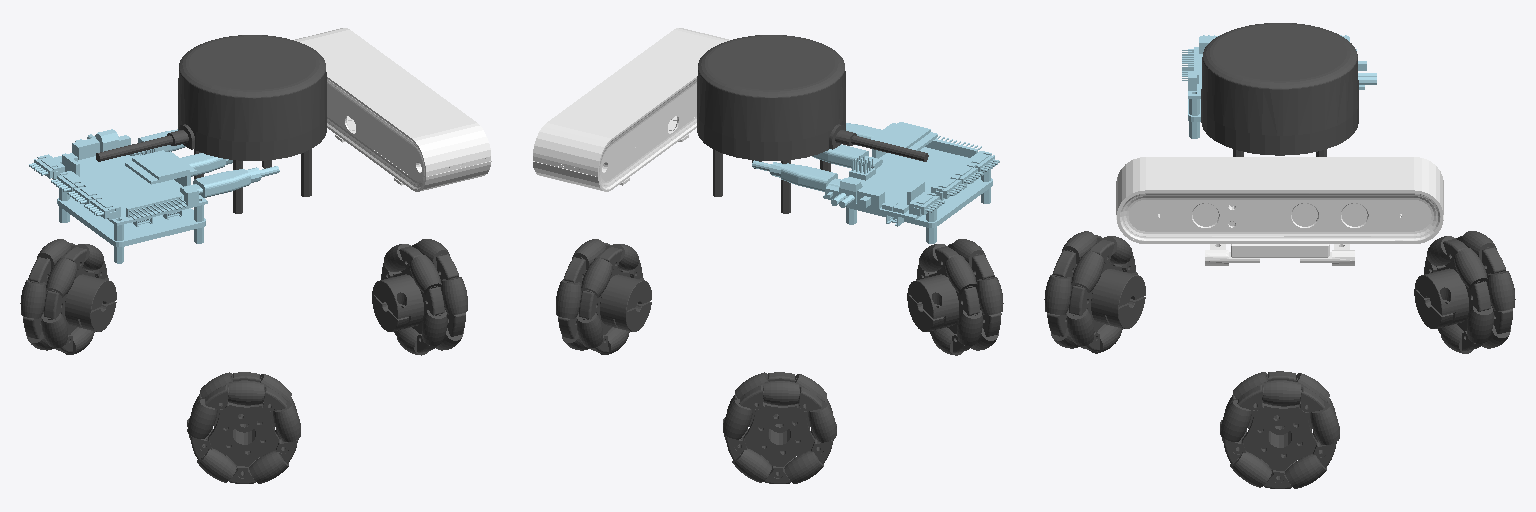
URDF robot description (mini_omni_robot):
<?xml version="1.0" encoding="utf-8"?>
<!-- This URDF was automatically created by SolidWorks to URDF Exporter! Originally created by [author] ([email redacted]) 
     Commit Version: 1.6.0-4-g7f85cfe  Build Version: 1.6.7995.38578
     For more information, please see http://wiki.ros.org/sw_urdf_exporter -->
<robot
  name="mini_omni_robot">
  <link
    name="base_link">
    <inertial>
      <origin
        xyz="-0.00215152015512567 -0.00354771497616371 -0.00238850986636495"
        rpy="0 0 0" />
      <mass
        value="0.316971084822964" />
      <inertia
        ixx="0.000420307413554536"
        ixy="8.53304678996615E-07"
        ixz="3.25484281157172E-11"
        iyy="0.000423240319736897"
        iyz="-2.92206846665081E-11"
        izz="0.000803923344739989" />
    </inertial>
    <visual>
      <origin
        xyz="0 0 0"
        rpy="0 0 0" />
      <geometry>
        <mesh
          filename="package://wheeltec_robot_urdf/meshes/mini_omni_robot_meshes/base_link.STL" />
      </geometry>
      <material
        name="">
        <color
          rgba="0.741176470588235 0.901960784313726 0.956862745098039 1" />
      </material>
    </visual>
    <collision>
      <origin
        xyz="0 0 0"
        rpy="0 0 0" />
      <geometry>
        <mesh
          filename="package://wheeltec_robot_urdf/meshes/mini_omni_robot_meshes/base_link.STL" />
      </geometry>
    </collision>
  </link>
  <link
    name="front_wheel_link">
    <inertial>
      <origin
        xyz="5.74714974423331E-05 0.00320699063859495 -4.61768854820438E-05"
        rpy="0 0 0" />
      <mass
        value="0.0418742906509581" />
      <inertia
        ixx="1.11530020202845E-05"
        ixy="2.36675244306518E-08"
        ixz="-5.43279459256917E-08"
        iyy="1.8768089937325E-05"
        iyz="-4.01883681793204E-08"
        izz="1.11464768270902E-05" />
    </inertial>
    <visual>
      <origin
        xyz="0 0 0"
        rpy="0 0 0" />
      <geometry>
        <mesh
          filename="package://wheeltec_robot_urdf/meshes/mini_omni_robot_meshes/front_wheel_link.STL" />
      </geometry>
      <material
        name="">
        <color
          rgba="0.376470588235294 0.376470588235294 0.376470588235294 1" />
      </material>
    </visual>
    <collision>
      <origin
        xyz="0 0 0"
        rpy="0 0 0" />
      <geometry>
        <mesh
          filename="package://wheeltec_robot_urdf/meshes/mini_omni_robot_meshes/front_wheel_link.STL" />
      </geometry>
    </collision>
  </link>
  <joint
    name="front_wheel_joint"
    type="continuous">
    <origin
      xyz="0.10975 8.5571E-05 -0.0358"
      rpy="0 0 1.5708" />
    <parent
      link="base_link" />
    <child
      link="front_wheel_link" />
    <axis
      xyz="0 -1 0" />
  </joint>
  <link
    name="left_wheel_link">
    <inertial>
      <origin
        xyz="5.74678573044898E-05 0.00320699471167032 -4.61750060654284E-05"
        rpy="0 0 0" />
      <mass
        value="0.041874288756166" />
      <inertia
        ixx="1.11530017211417E-05"
        ixy="2.36641581685783E-08"
        ixz="-5.43274481797102E-08"
        iyy="1.87681100612576E-05"
        iyz="-4.01888165769215E-08"
        izz="1.11464785833887E-05" />
    </inertial>
    <visual>
      <origin
        xyz="0 0 0"
        rpy="0 0 0" />
      <geometry>
        <mesh
          filename="package://wheeltec_robot_urdf/meshes/mini_omni_robot_meshes/left_wheel_link.STL" />
      </geometry>
      <material
        name="">
        <color
          rgba="0.376470588235294 0.376470588235294 0.376470588235294 1" />
      </material>
    </visual>
    <collision>
      <origin
        xyz="0 0 0"
        rpy="0 0 0" />
      <geometry>
        <mesh
          filename="package://wheeltec_robot_urdf/meshes/mini_omni_robot_meshes/left_wheel_link.STL" />
      </geometry>
    </collision>
  </link>
  <joint
    name="left_wheel_joint"
    type="continuous">
    <origin
      xyz="-0.054729 0.095045 -0.0358"
      rpy="0 0 -2.618" />
    <parent
      link="base_link" />
    <child
      link="left_wheel_link" />
    <axis
      xyz="0 -1 0" />
  </joint>
  <link
    name="right_wheel_link">
    <inertial>
      <origin
        xyz="5.74721854603097E-05 0.00320699380279695 -4.61761038215297E-05"
        rpy="0 0 0" />
      <mass
        value="0.0418742868228469" />
      <inertia
        ixx="1.11530020877519E-05"
        ixy="2.36755527469659E-08"
        ixz="-5.43278673691997E-08"
        iyy="1.87681107970762E-05"
        iyz="-4.0189135655947E-08"
        izz="1.11464784876816E-05" />
    </inertial>
    <visual>
      <origin
        xyz="0 0 0"
        rpy="0 0 0" />
      <geometry>
        <mesh
          filename="package://wheeltec_robot_urdf/meshes/mini_omni_robot_meshes/right_wheel_link.STL" />
      </geometry>
      <material
        name="">
        <color
          rgba="0.376470588235294 0.376470588235294 0.376470588235294 1" />
      </material>
    </visual>
    <collision>
      <origin
        xyz="0 0 0"
        rpy="0 0 0" />
      <geometry>
        <mesh
          filename="package://wheeltec_robot_urdf/meshes/mini_omni_robot_meshes/right_wheel_link.STL" />
      </geometry>
    </collision>
  </link>
  <joint
    name="right_wheel_joint"
    type="continuous">
    <origin
      xyz="-0.054729 -0.094874 -0.0358"
      rpy="0 0 -0.5236" />
    <parent
      link="base_link" />
    <child
      link="right_wheel_link" />
    <axis
      xyz="0 -1 0" />
  </joint>
  <link
    name="controller_link">
    <inertial>
      <origin
        xyz="-0.0166307508329173 0.0377059276016881 0.0221732694812525"
        rpy="0 0 0" />
      <mass
        value="0.0388361502106471" />
      <inertia
        ixx="2.23207514180048E-05"
        ixy="9.5272750875175E-07"
        ixz="-5.84384794338806E-08"
        iyy="2.46082780117255E-05"
        iyz="3.14216783338302E-07"
        izz="4.60494109024797E-05" />
    </inertial>
    <visual>
      <origin
        xyz="0 0 0"
        rpy="0 0 0" />
      <geometry>
        <mesh
          filename="package://wheeltec_robot_urdf/meshes/mini_omni_robot_meshes/controller_link.STL" />
      </geometry>
      <material
        name="">
        <color
          rgba="0.741176470588235 0.901960784313726 0.956862745098039 1" />
      </material>
    </visual>
    <collision>
      <origin
        xyz="0 0 0"
        rpy="0 0 0" />
      <geometry>
        <mesh
          filename="package://wheeltec_robot_urdf/meshes/mini_omni_robot_meshes/controller_link.STL" />
      </geometry>
    </collision>
  </link>
  <joint
    name="controller_joint"
    type="fixed">
    <origin
      xyz="-0.05003 -0.044286 0.0515"
      rpy="0 0 0" />
    <parent
      link="base_link" />
    <child
      link="controller_link" />
    <axis
      xyz="0 0 0" />
  </joint>
  <link
    name="laser_link">
    <inertial>
      <origin
        xyz="0.0023946067243534 -4.3623586159597E-06 0.00454035676315102"
        rpy="0 0 0" />
      <mass
        value="0.0391766918292892" />
      <inertia
        ixx="2.82296075691487E-05"
        ixy="-2.19900290000419E-09"
        ixz="1.07118438746105E-06"
        iyy="3.37984497834087E-05"
        iyz="6.83963658170686E-10"
        izz="4.50920076493152E-05" />
    </inertial>
    <visual>
      <origin
        xyz="0 0 0"
        rpy="0 0 0" />
      <geometry>
        <mesh
          filename="package://wheeltec_robot_urdf/meshes/mini_omni_robot_meshes/laser.STL" />
      </geometry>
      <material
        name="">
        <color
          rgba="0.376470588235294 0.376470588235294 0.376470588235294 1" />
      </material>
    </visual>
    <collision>
      <origin
        xyz="0 0 0"
        rpy="0 0 0" />
      <geometry>
        <mesh
          filename="package://wheeltec_robot_urdf/meshes/mini_omni_robot_meshes/laser.STL" />
      </geometry>
    </collision>
  </link>
  <joint
    name="laser_joint"
    type="fixed">
    <origin
      xyz="0.005095 8.5571E-05 0.097524"
      rpy="0 0 3.1416" />
    <parent
      link="base_link" />
    <child
      link="laser_link" />
    <axis
      xyz="0 0 0" />
  </joint>
  <link
    name="camera_link">
    <inertial>
      <origin
        xyz="-1.30544696302914E-07 -9.32154475080064E-08 1.07624265707762E-07"
        rpy="0 0 0" />
      <mass
        value="0.0559842512081409" />
      <inertia
        ixx="0.000130810959339877"
        ixy="1.20255128069094E-07"
        ixz="1.62335437079563E-06"
        iyy="1.91148634968207E-05"
        iyz="-2.80016756154036E-08"
        izz="0.00013138746952371" />
    </inertial>
    <visual>
      <origin
        xyz="0 0 0"
        rpy="0 0 0" />
      <geometry>
        <mesh
          filename="package://wheeltec_robot_urdf/meshes/mini_omni_robot_meshes/camera_link.STL" />
      </geometry>
      <material
        name="">
        <color
          rgba="1 1 1 1" />
      </material>
    </visual>
    <collision>
      <origin
        xyz="0 0 0"
        rpy="0 0 0" />
      <geometry>
        <mesh
          filename="package://wheeltec_robot_urdf/meshes/mini_omni_robot_meshes/camera_link.STL" />
      </geometry>
    </collision>
  </link>
  <joint
    name="camera_joint"
    type="fixed">
    <origin
      xyz="0.085700005871124 0.000163315147966551 0.076204"
      rpy="0 0 0" />
    <parent
      link="base_link" />
    <child
      link="camera_link" />
    <axis
      xyz="0 0 0" />
  </joint>
</robot>

--- Facts derived from the render (not from the file) ---
Views: 3 orthographic renders of the robot side by side, from view 1: azimuth 30°, elevation 25°; view 2: azimuth 150°, elevation 25°; view 3: azimuth 270°, elevation 25°.
Robot: mini_omni_robot — 7 links, 6 joints (3 continuous, 3 fixed); root link base_link; default pose: every joint at zero.
Visible links, largest first — view 1: laser_link, camera_link, controller_link, right_wheel_link, front_wheel_link, left_wheel_link; view 2: laser_link, camera_link, controller_link, left_wheel_link, right_wheel_link, front_wheel_link; view 3: camera_link, laser_link, front_wheel_link, left_wheel_link, right_wheel_link, controller_link.
Link boxes in pixels (x1,y1,x2,y2): laser_link: (96, 35, 326, 213); camera_link: (294, 28, 491, 191); controller_link: (29, 129, 279, 263); right_wheel_link: (187, 372, 300, 483); front_wheel_link: (372, 239, 467, 355); left_wheel_link: (20, 239, 116, 354); laser_link: (697, 35, 928, 213); camera_link: (533, 28, 729, 191); controller_link: (752, 122, 999, 243); left_wheel_link: (723, 372, 836, 483); right_wheel_link: (907, 239, 1003, 355); front_wheel_link: (556, 239, 651, 354); camera_link: (1116, 157, 1443, 265); laser_link: (1201, 23, 1358, 156); front_wheel_link: (1220, 371, 1339, 488); left_wheel_link: (1414, 231, 1515, 353); right_wheel_link: (1044, 231, 1145, 353); controller_link: (1182, 35, 1376, 138).
Bounding box of the posed robot: 0.2351 × 0.2372 × 0.1914 m (x, y, z).
6 mesh visuals loaded from 7 distinct referenced files (6 binary STL); not drawn: 1 (reference not matched to a file when rendering).